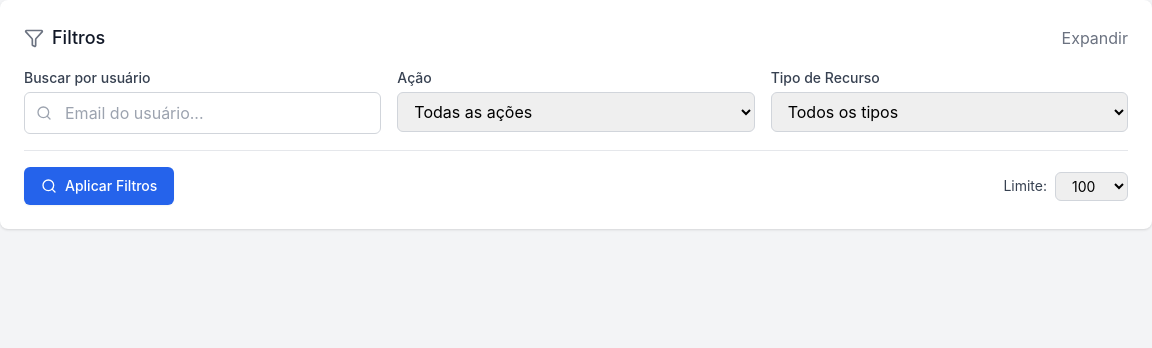
Test: AuditLogsFilters › Estado de Expansão › deve expandir filtros avançados ao clicar em Expandir
The image size is (1152, 348).
Click the button "Expandir" at (1095, 38), box [1062, 26, 1128, 50]
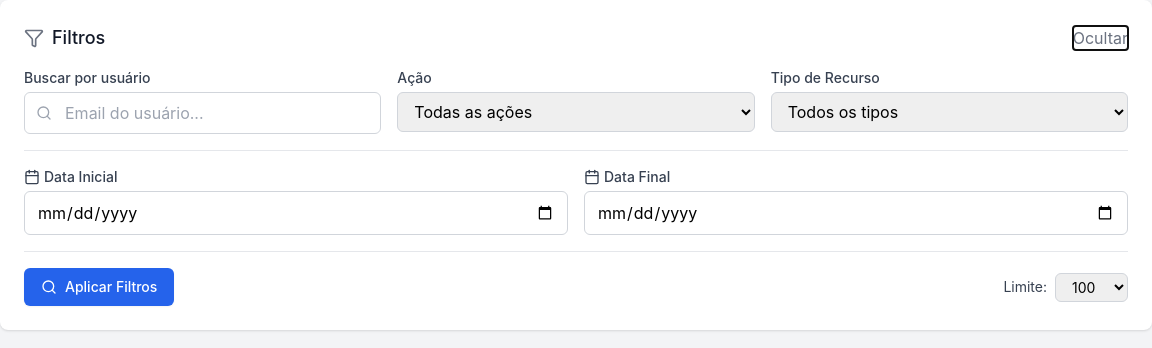
Result: the text "Data Inicial" is shown at [44, 167, 117, 187]
Result: the text "Data Final" is shown at [604, 167, 670, 187]
Result: the button "Ocultar" is shown at [1073, 26, 1128, 50]
